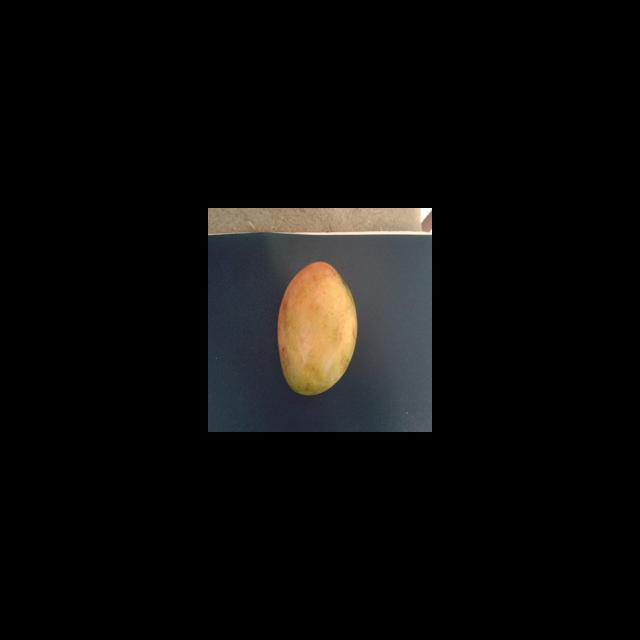Mango: (276, 260, 358, 396)
